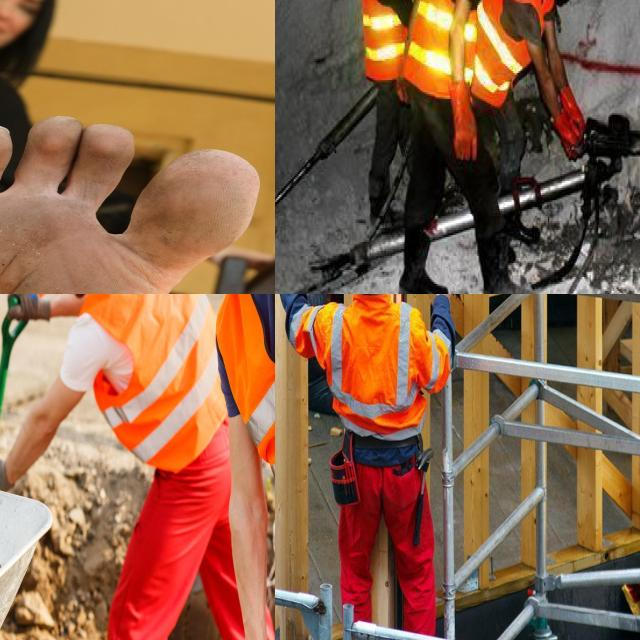Barefoots: (0, 115, 260, 294)
hand_glove: (444, 76, 486, 174), (558, 80, 589, 158), (0, 294, 55, 335), (0, 445, 13, 505)
hand_noglove: (431, 294, 460, 304)
person: (0, 294, 231, 640), (275, 294, 455, 638), (403, 0, 523, 285), (480, 0, 583, 151), (360, 0, 417, 221)
shoes: (398, 236, 449, 294), (477, 259, 540, 294)
vest: (81, 294, 228, 462), (323, 294, 428, 443), (474, 0, 550, 95), (414, 0, 479, 90), (362, 0, 405, 72)
